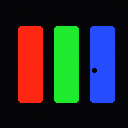0 point: (92, 68, 96, 72)
